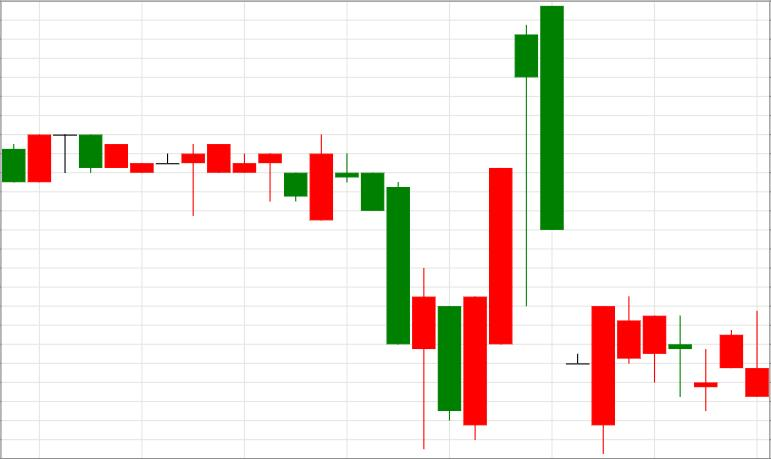bullish_engulfing_rise: (335, 152, 487, 449)
